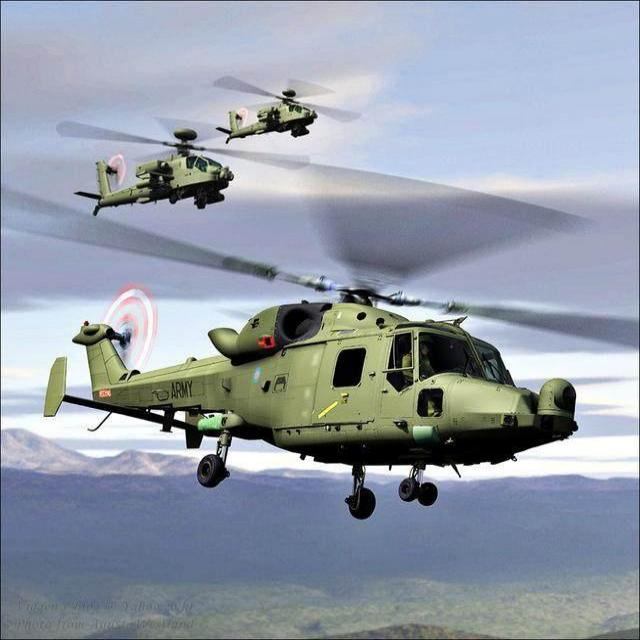MIL_HELO: (0, 174, 640, 493), (36, 105, 290, 225), (184, 56, 376, 155)
